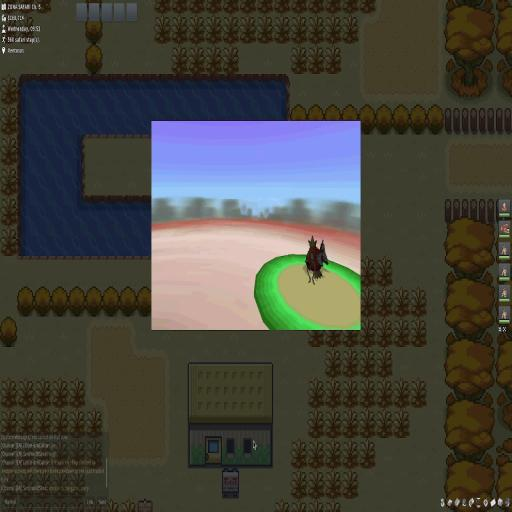MAGIKARP: (304, 236, 328, 284)
